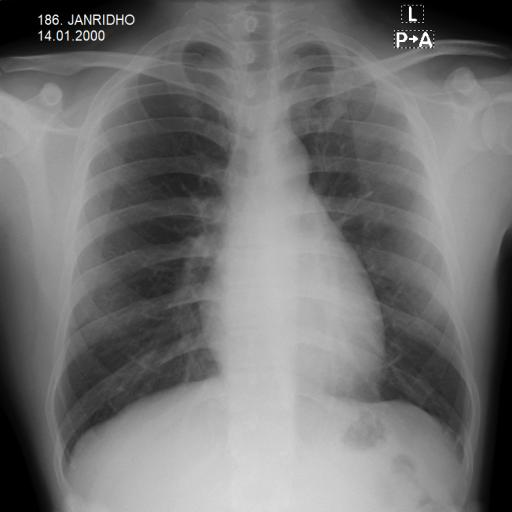normal: (41, 14, 482, 478)
